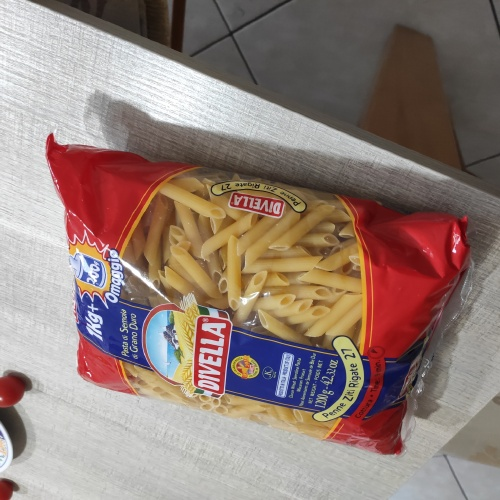pasta: (47, 143, 443, 459)
